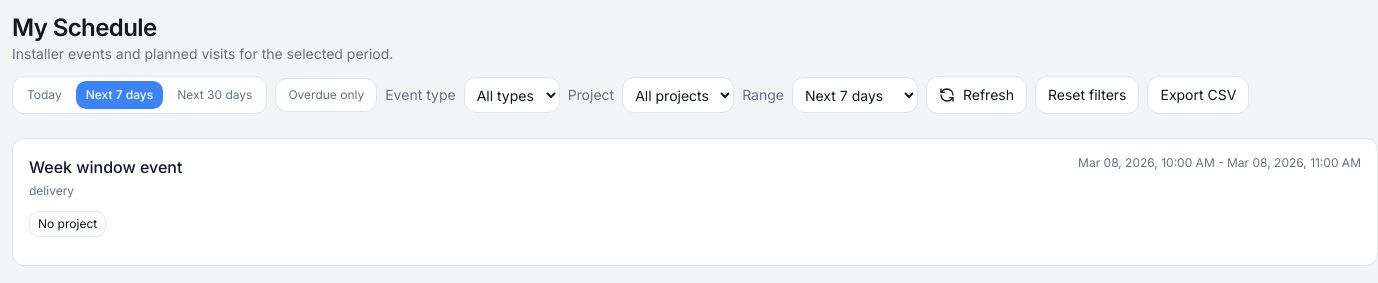
Test: InstallerSchedulePage › switches schedule range using quick actions
Expected: the text "Week window event" is shown, x1=29 y1=155 x2=182 y2=179
Click the button "Today" at (44, 95), box x1=17 y1=81 x2=72 y2=109
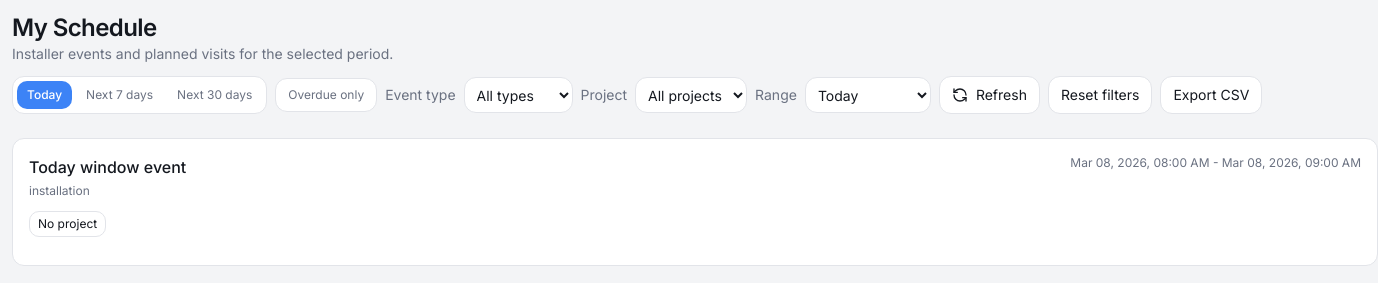
Now the text "Today window event" is shown, box x1=29 y1=155 x2=186 y2=179
Now the text "Week window event" is gone
Click the button "Next 30 days" at (215, 95), box x1=167 y1=81 x2=262 y2=109
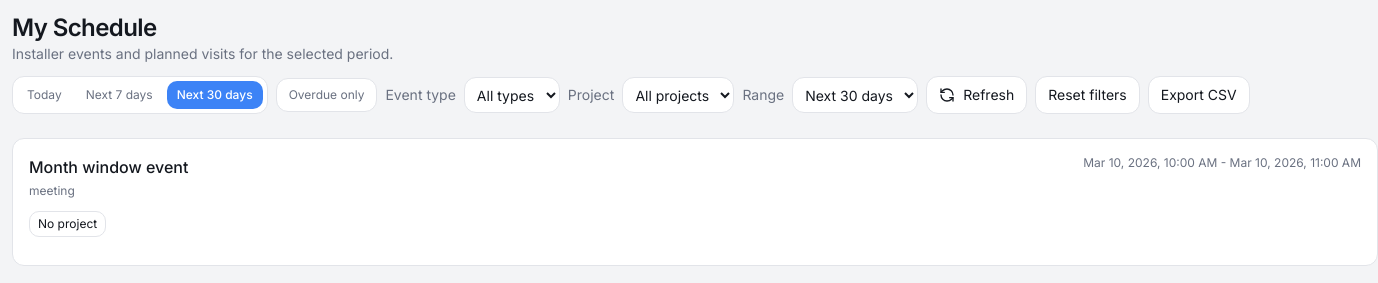
Now the text "Month window event" is shown, box x1=29 y1=155 x2=188 y2=179
Now the text "Today window event" is gone
